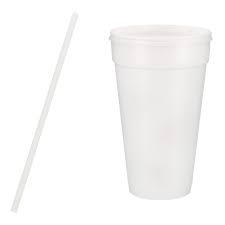Plastic cup: (96, 17, 219, 217)
